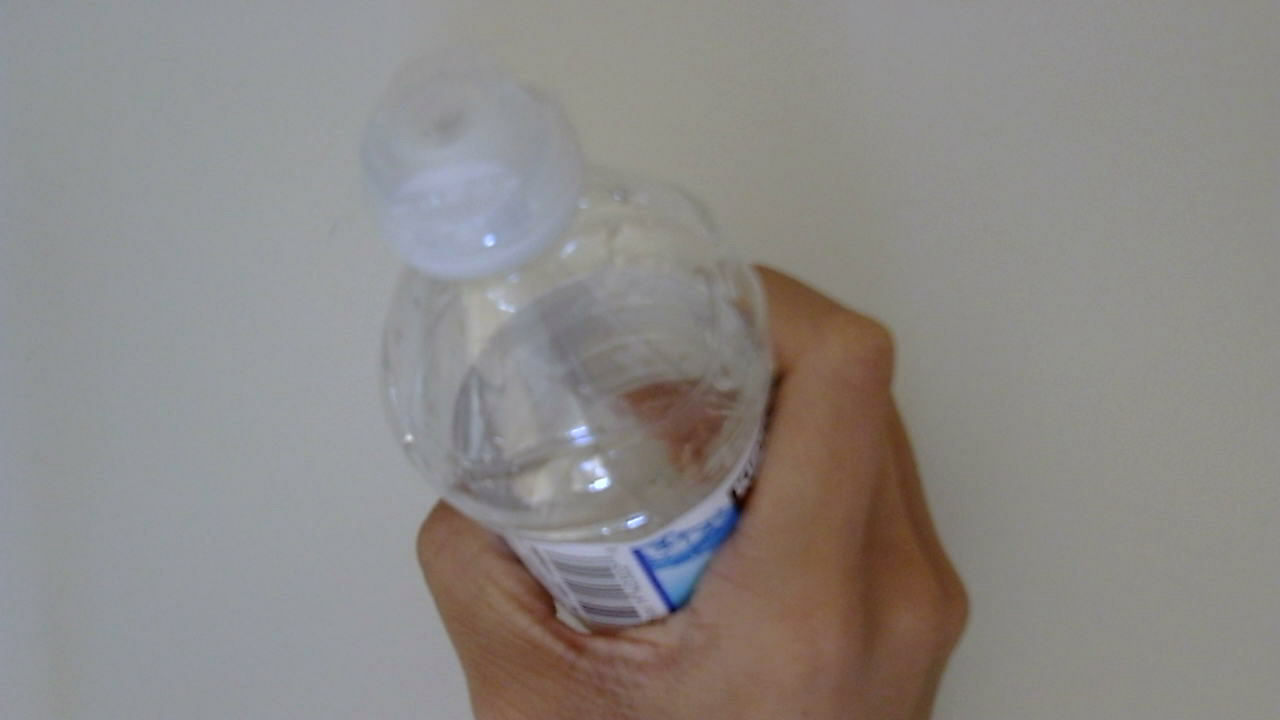Plastic Bottle: (354, 36, 785, 640)
